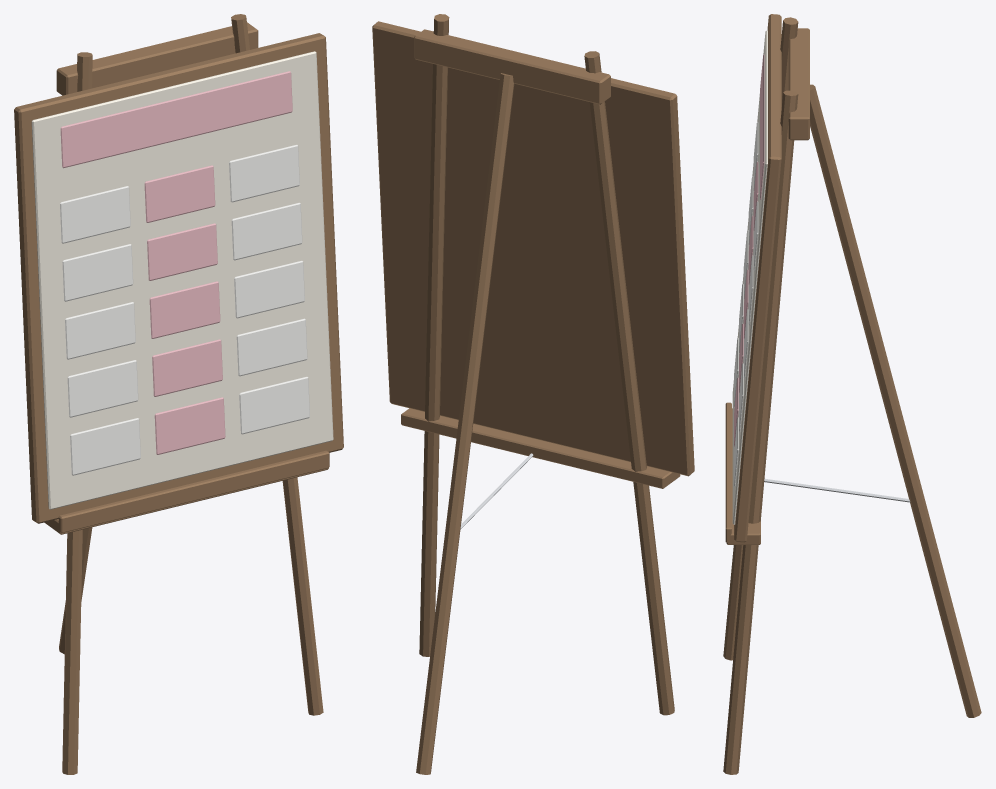
File: wedding-and-chapel-kit-seating-chart-board-3a43740d__39409.glb
3 views of the same model, side by side, from view 1: azimuth 30°, elevation 25°; view 2: azimuth 150°, elevation 25°; view 3: azimuth 270°, elevation 25° (orthographic). The views are drawn at different scales.
Parts seen in each view (by area): view 1: seating-chart-board; view 2: seating-chart-board; view 3: seating-chart-board.
Part boxes in pixels (bbox=[...]): seating-chart-board: bbox=[14, 14, 343, 774]; seating-chart-board: bbox=[372, 14, 694, 774]; seating-chart-board: bbox=[723, 14, 981, 774].
Bounding box in the file's own units: 0.8 × 1.71 × 0.6055.
